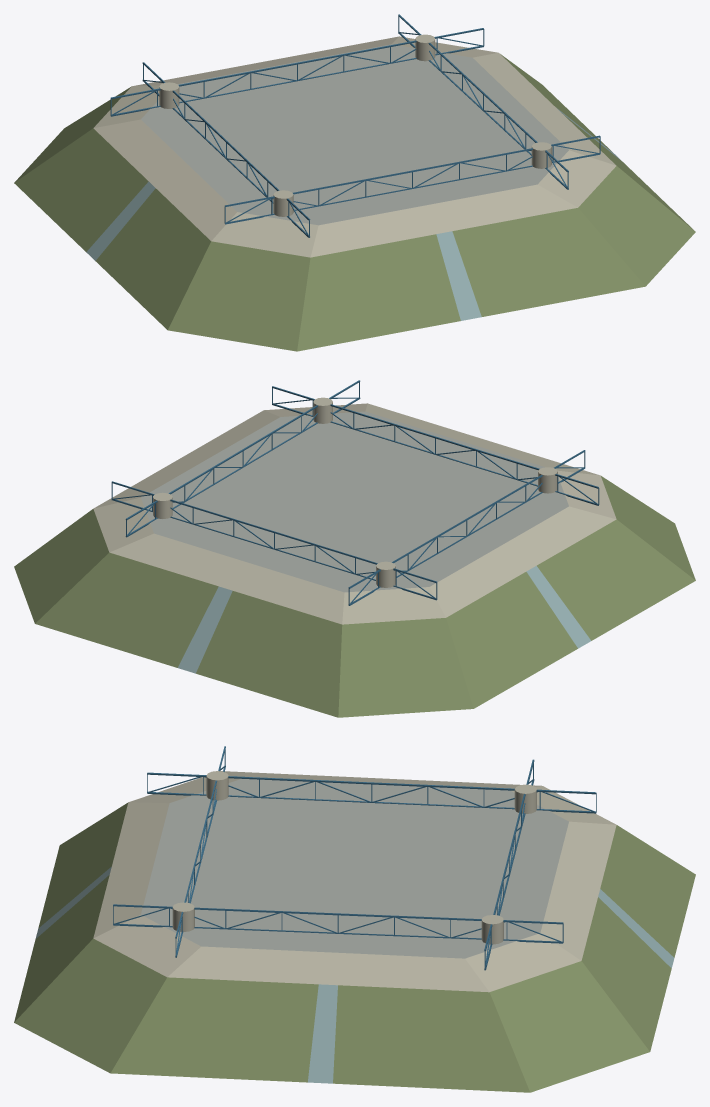
Rendered from accor-arena-bercy-far.glb.
3 views of the same model, one above another, from view 1: azimuth 30°, elevation 25°; view 2: azimuth 150°, elevation 25°; view 3: azimuth 270°, elevation 25° (orthographic). The views are drawn at different scales.
Visible parts, largest first — view 1: accor-arena-bercy-0-grass, accor-arena-bercy-0-roof, accor-arena-bercy-0-concrete, accor-arena-bercy-0-steel, accor-arena-bercy-0-glass; view 2: accor-arena-bercy-0-grass, accor-arena-bercy-0-roof, accor-arena-bercy-0-concrete, accor-arena-bercy-0-steel, accor-arena-bercy-0-glass; view 3: accor-arena-bercy-0-grass, accor-arena-bercy-0-roof, accor-arena-bercy-0-concrete, accor-arena-bercy-0-steel, accor-arena-bercy-0-glass.
Boxes of the visible parts, x1,y1,x2,y2 form: accor-arena-bercy-0-grass: (14,54,695,351); accor-arena-bercy-0-roof: (141,44,568,225); accor-arena-bercy-0-concrete: (93,34,616,257); accor-arena-bercy-0-steel: (110,14,600,237); accor-arena-bercy-0-glass: (86,107,623,320); accor-arena-bercy-0-grass: (14,476,695,717); accor-arena-bercy-0-roof: (141,411,568,592); accor-arena-bercy-0-concrete: (93,397,616,624); accor-arena-bercy-0-steel: (111,380,599,605); accor-arena-bercy-0-glass: (178,566,591,673); accor-arena-bercy-0-grass: (14,802,695,1092); accor-arena-bercy-0-roof: (141,779,568,958); accor-arena-bercy-0-concrete: (93,771,616,992); accor-arena-bercy-0-steel: (113,746,596,970); accor-arena-bercy-0-glass: (35,866,674,1083).
Size of the model in its own units: 183 by 30 by 183.
